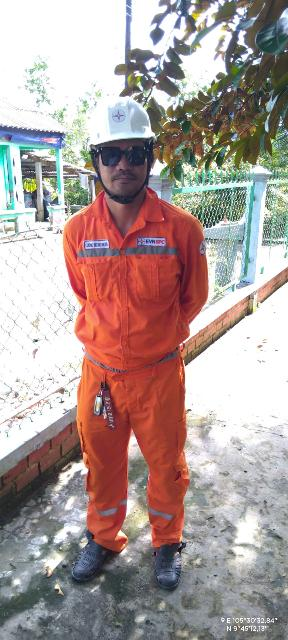helmet: (69, 74, 181, 155)
shoes: (59, 522, 135, 579), (139, 533, 200, 595)
